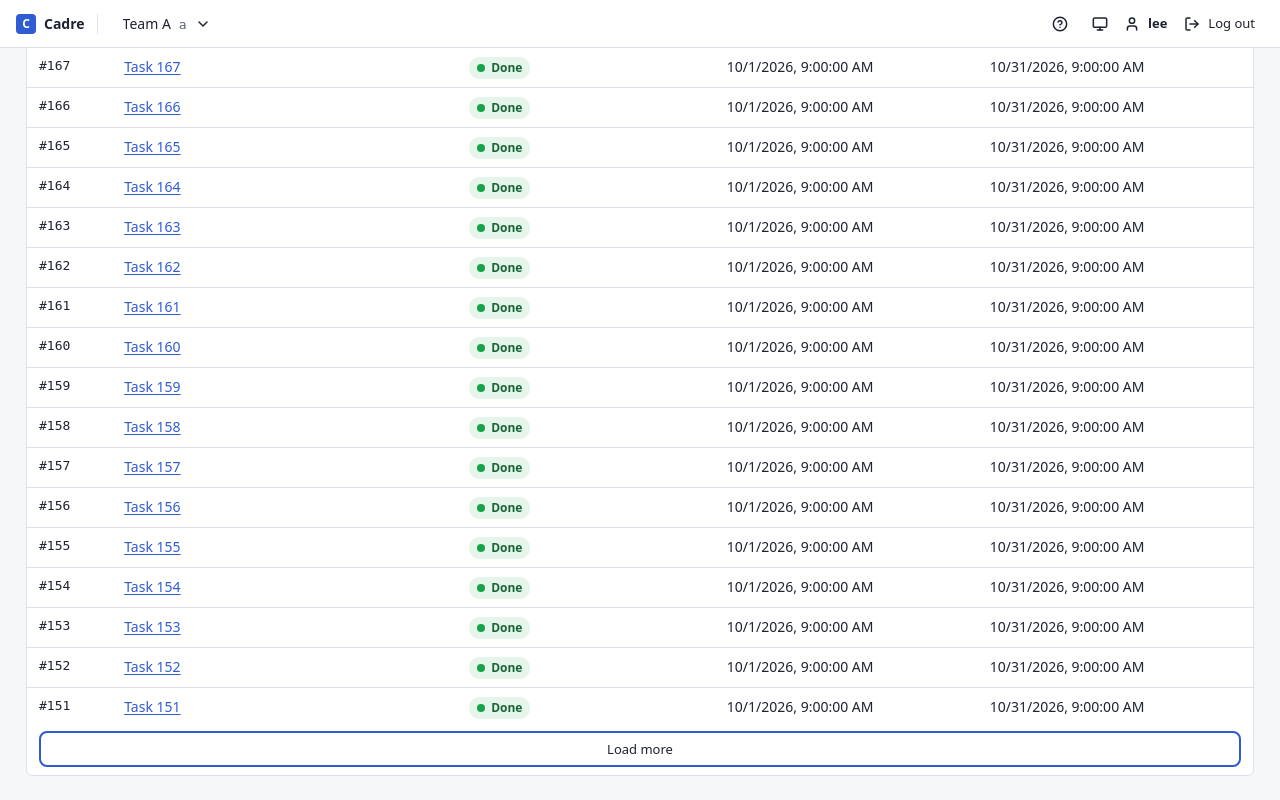
Test: Archive › loads the next page by offset while there are more than shown, and drops an item a later page repeats
This screenshot has width=1280, height=800.
(page scrolled)
# A task archived between the reads moved the first page's last one down.
Click the button "Load more" at (640, 749), box [43,735,1237,763]
(page scrolled)
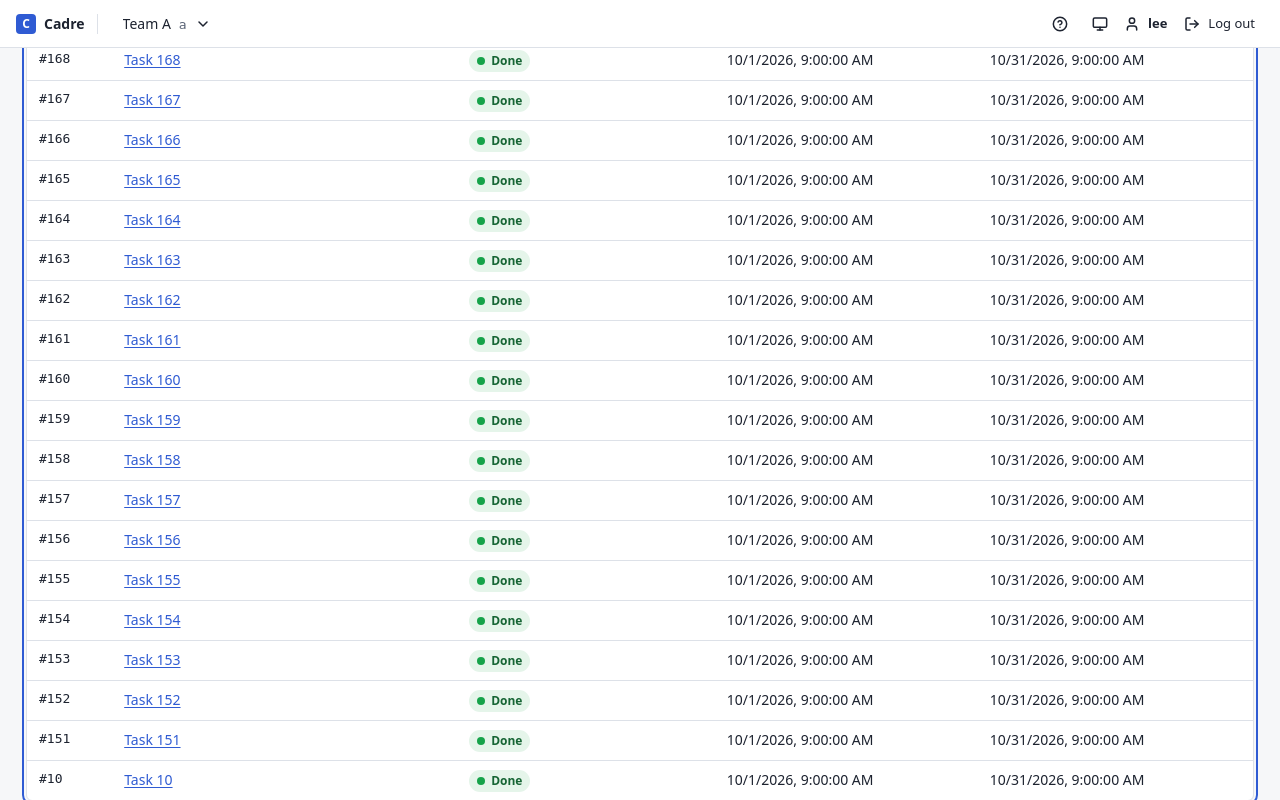
expect the link "Task 10" is shown: met, box [124,770,173,789]
expect the button "Load more" is gone: met
